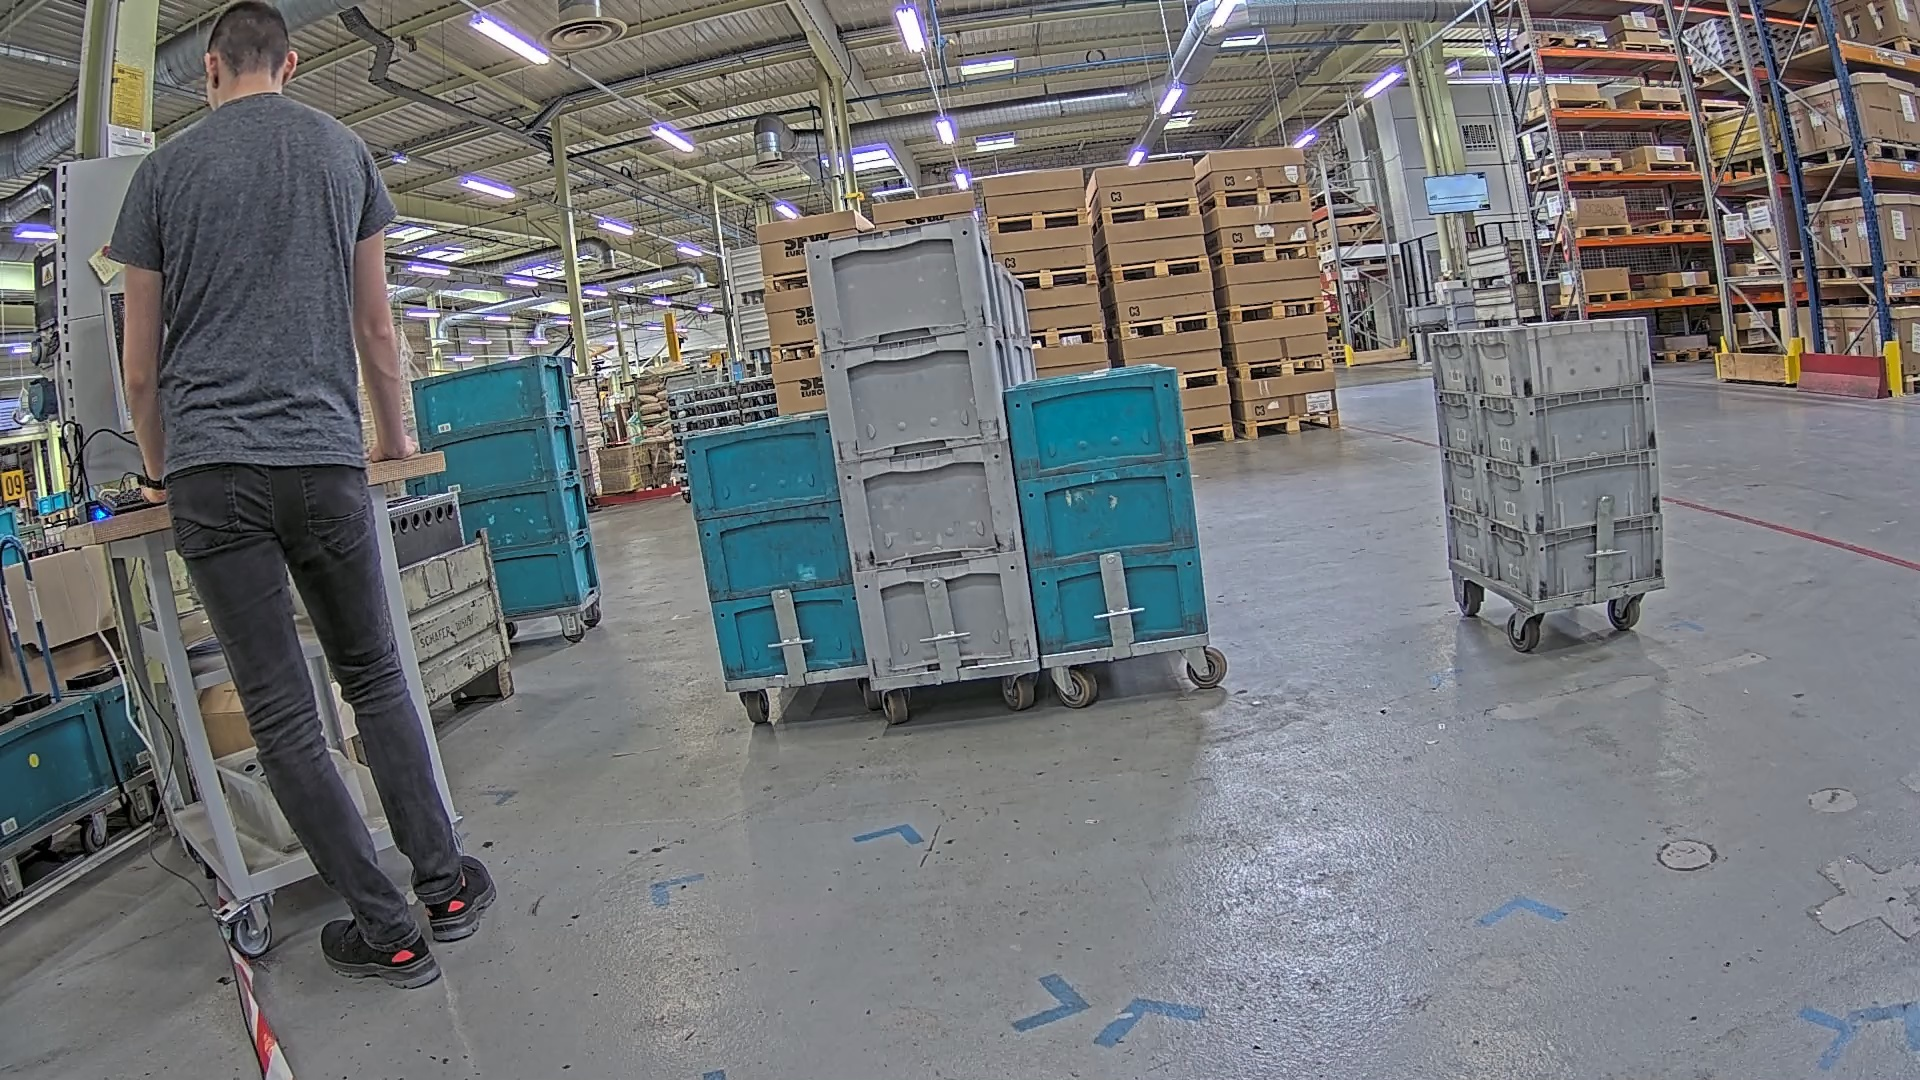4G: (800, 211, 1039, 680)
8G: (1510, 314, 1663, 604)
B8: (1002, 364, 1212, 658), (676, 414, 876, 687)
